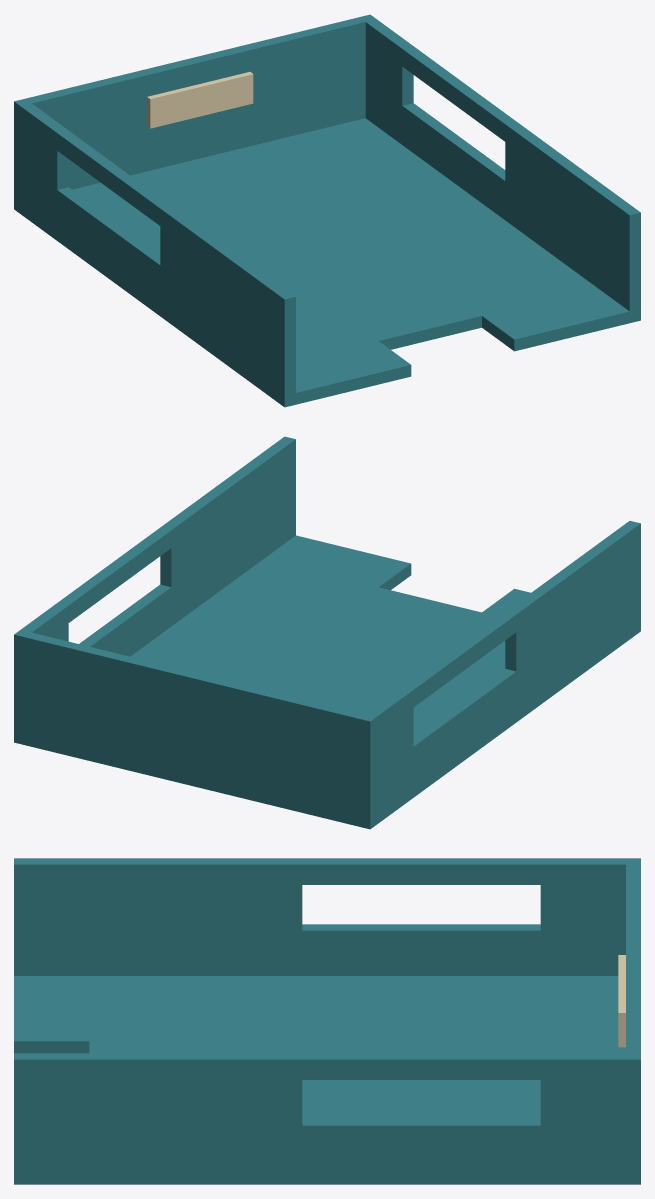
The picture shows the model from 3 angles, top to bottom: view 1: azimuth 30°, elevation 25°; view 2: azimuth 150°, elevation 25°; view 3: azimuth 270°, elevation 25°; orthographic projection. The views are drawn at different scales.
Visible parts, largest first — view 1: Notched_OpenFrontFloor, Left_ThroughGripSide, Right_ThroughGripSide, Rear_LetterStop, Blank_InteriorPlaque; view 2: Notched_OpenFrontFloor, Rear_LetterStop, Left_ThroughGripSide, Right_ThroughGripSide; view 3: Notched_OpenFrontFloor, Right_ThroughGripSide, Left_ThroughGripSide, Rear_LetterStop, Blank_InteriorPlaque.
Boxes of the visible parts, bbox=[...] form: Notched_OpenFrontFloor: bbox=[14, 118, 640, 407]; Left_ThroughGripSide: bbox=[14, 99, 295, 395]; Right_ThroughGripSide: bbox=[359, 14, 640, 311]; Rear_LetterStop: bbox=[25, 17, 365, 189]; Blank_InteriorPlaque: bbox=[147, 72, 253, 128]; Notched_OpenFrontFloor: bbox=[14, 535, 640, 829]; Rear_LetterStop: bbox=[25, 632, 364, 814]; Left_ThroughGripSide: bbox=[359, 521, 640, 817]; Right_ThroughGripSide: bbox=[14, 436, 295, 733]; Notched_OpenFrontFloor: bbox=[14, 976, 640, 1184]; Right_ThroughGripSide: bbox=[14, 1053, 640, 1170]; Left_ThroughGripSide: bbox=[14, 858, 640, 975]; Rear_LetterStop: bbox=[626, 864, 640, 1053]; Blank_InteriorPlaque: bbox=[618, 955, 625, 1047].
Size of the model in its own units: 0.38 by 0.13 by 0.5.
